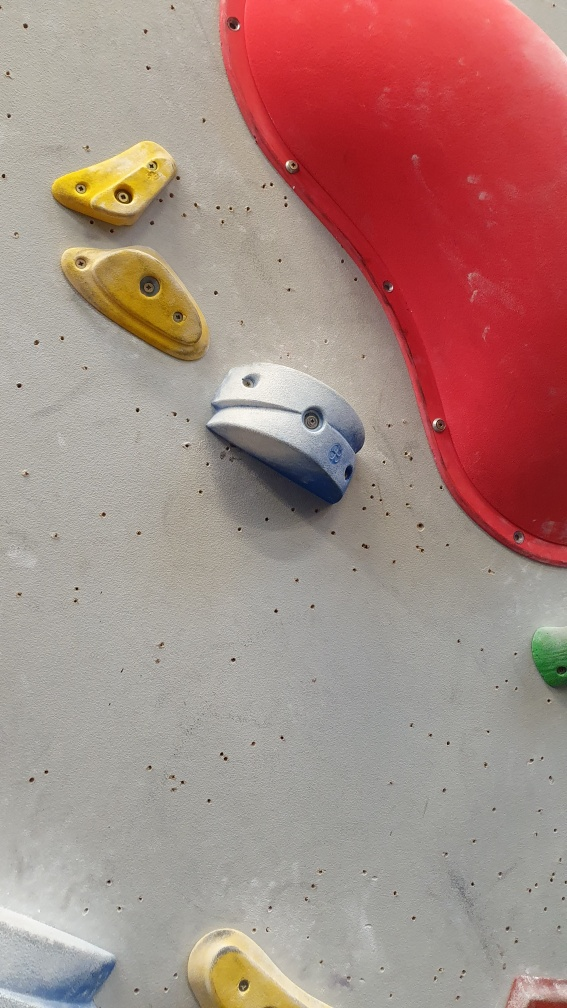Pinch: (205, 356, 368, 503), (3, 890, 119, 1008)
